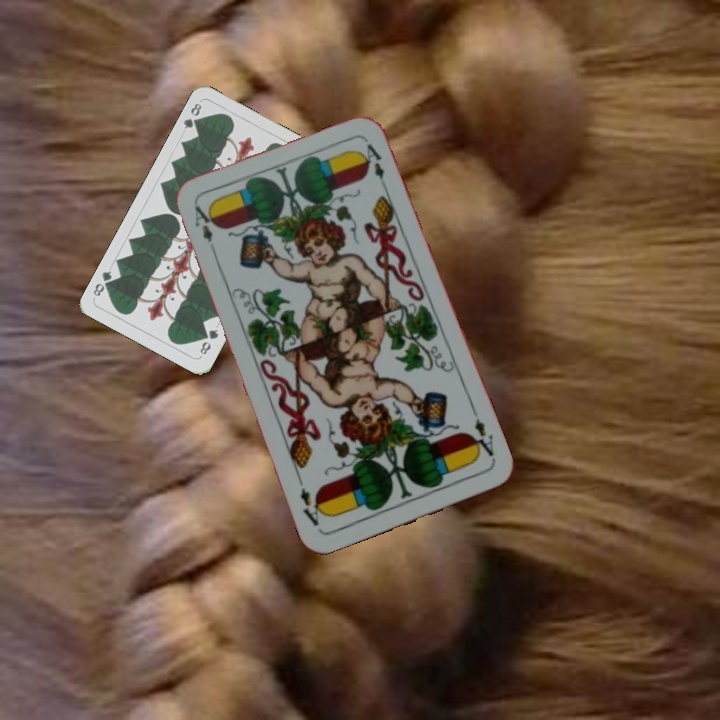EA: (466, 414, 497, 460), (190, 201, 220, 245)
G8: (196, 325, 221, 357), (179, 99, 204, 131)
